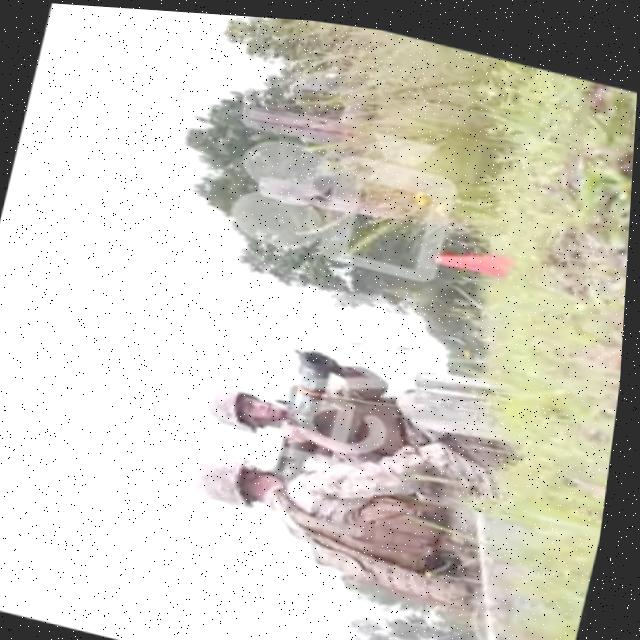rocket: (274, 340, 349, 468)
